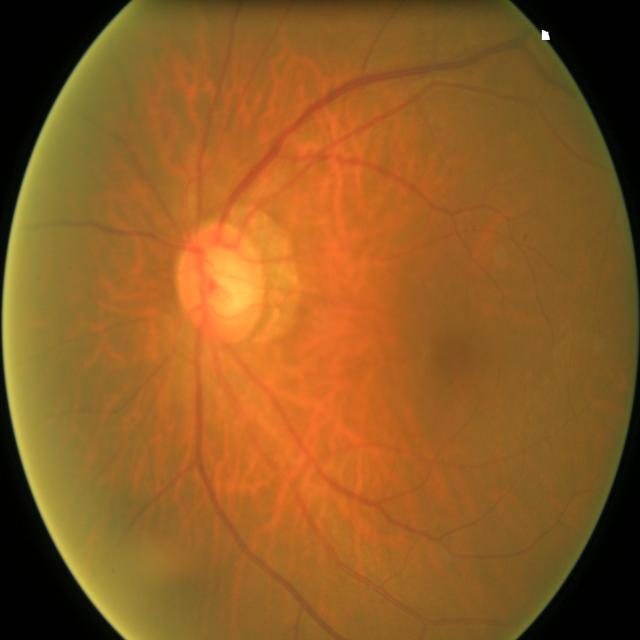OC: (194, 243, 252, 320)
OD: (177, 225, 266, 342)
